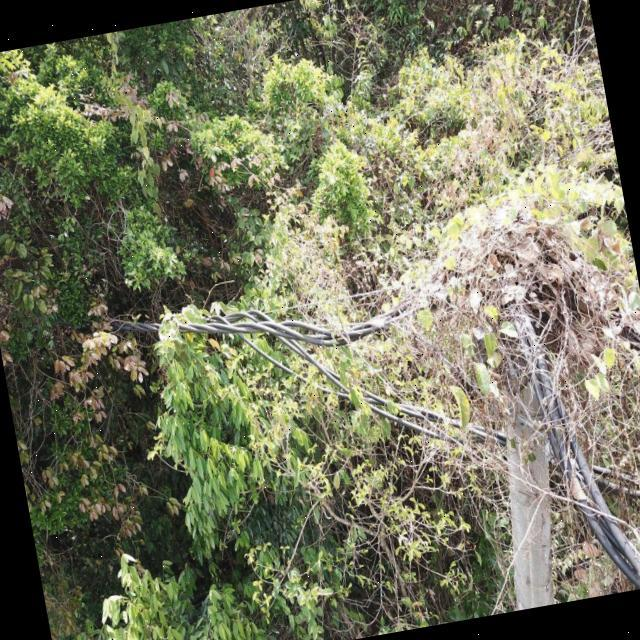critical vegetation: (321, 158, 640, 593), (130, 278, 314, 562)
